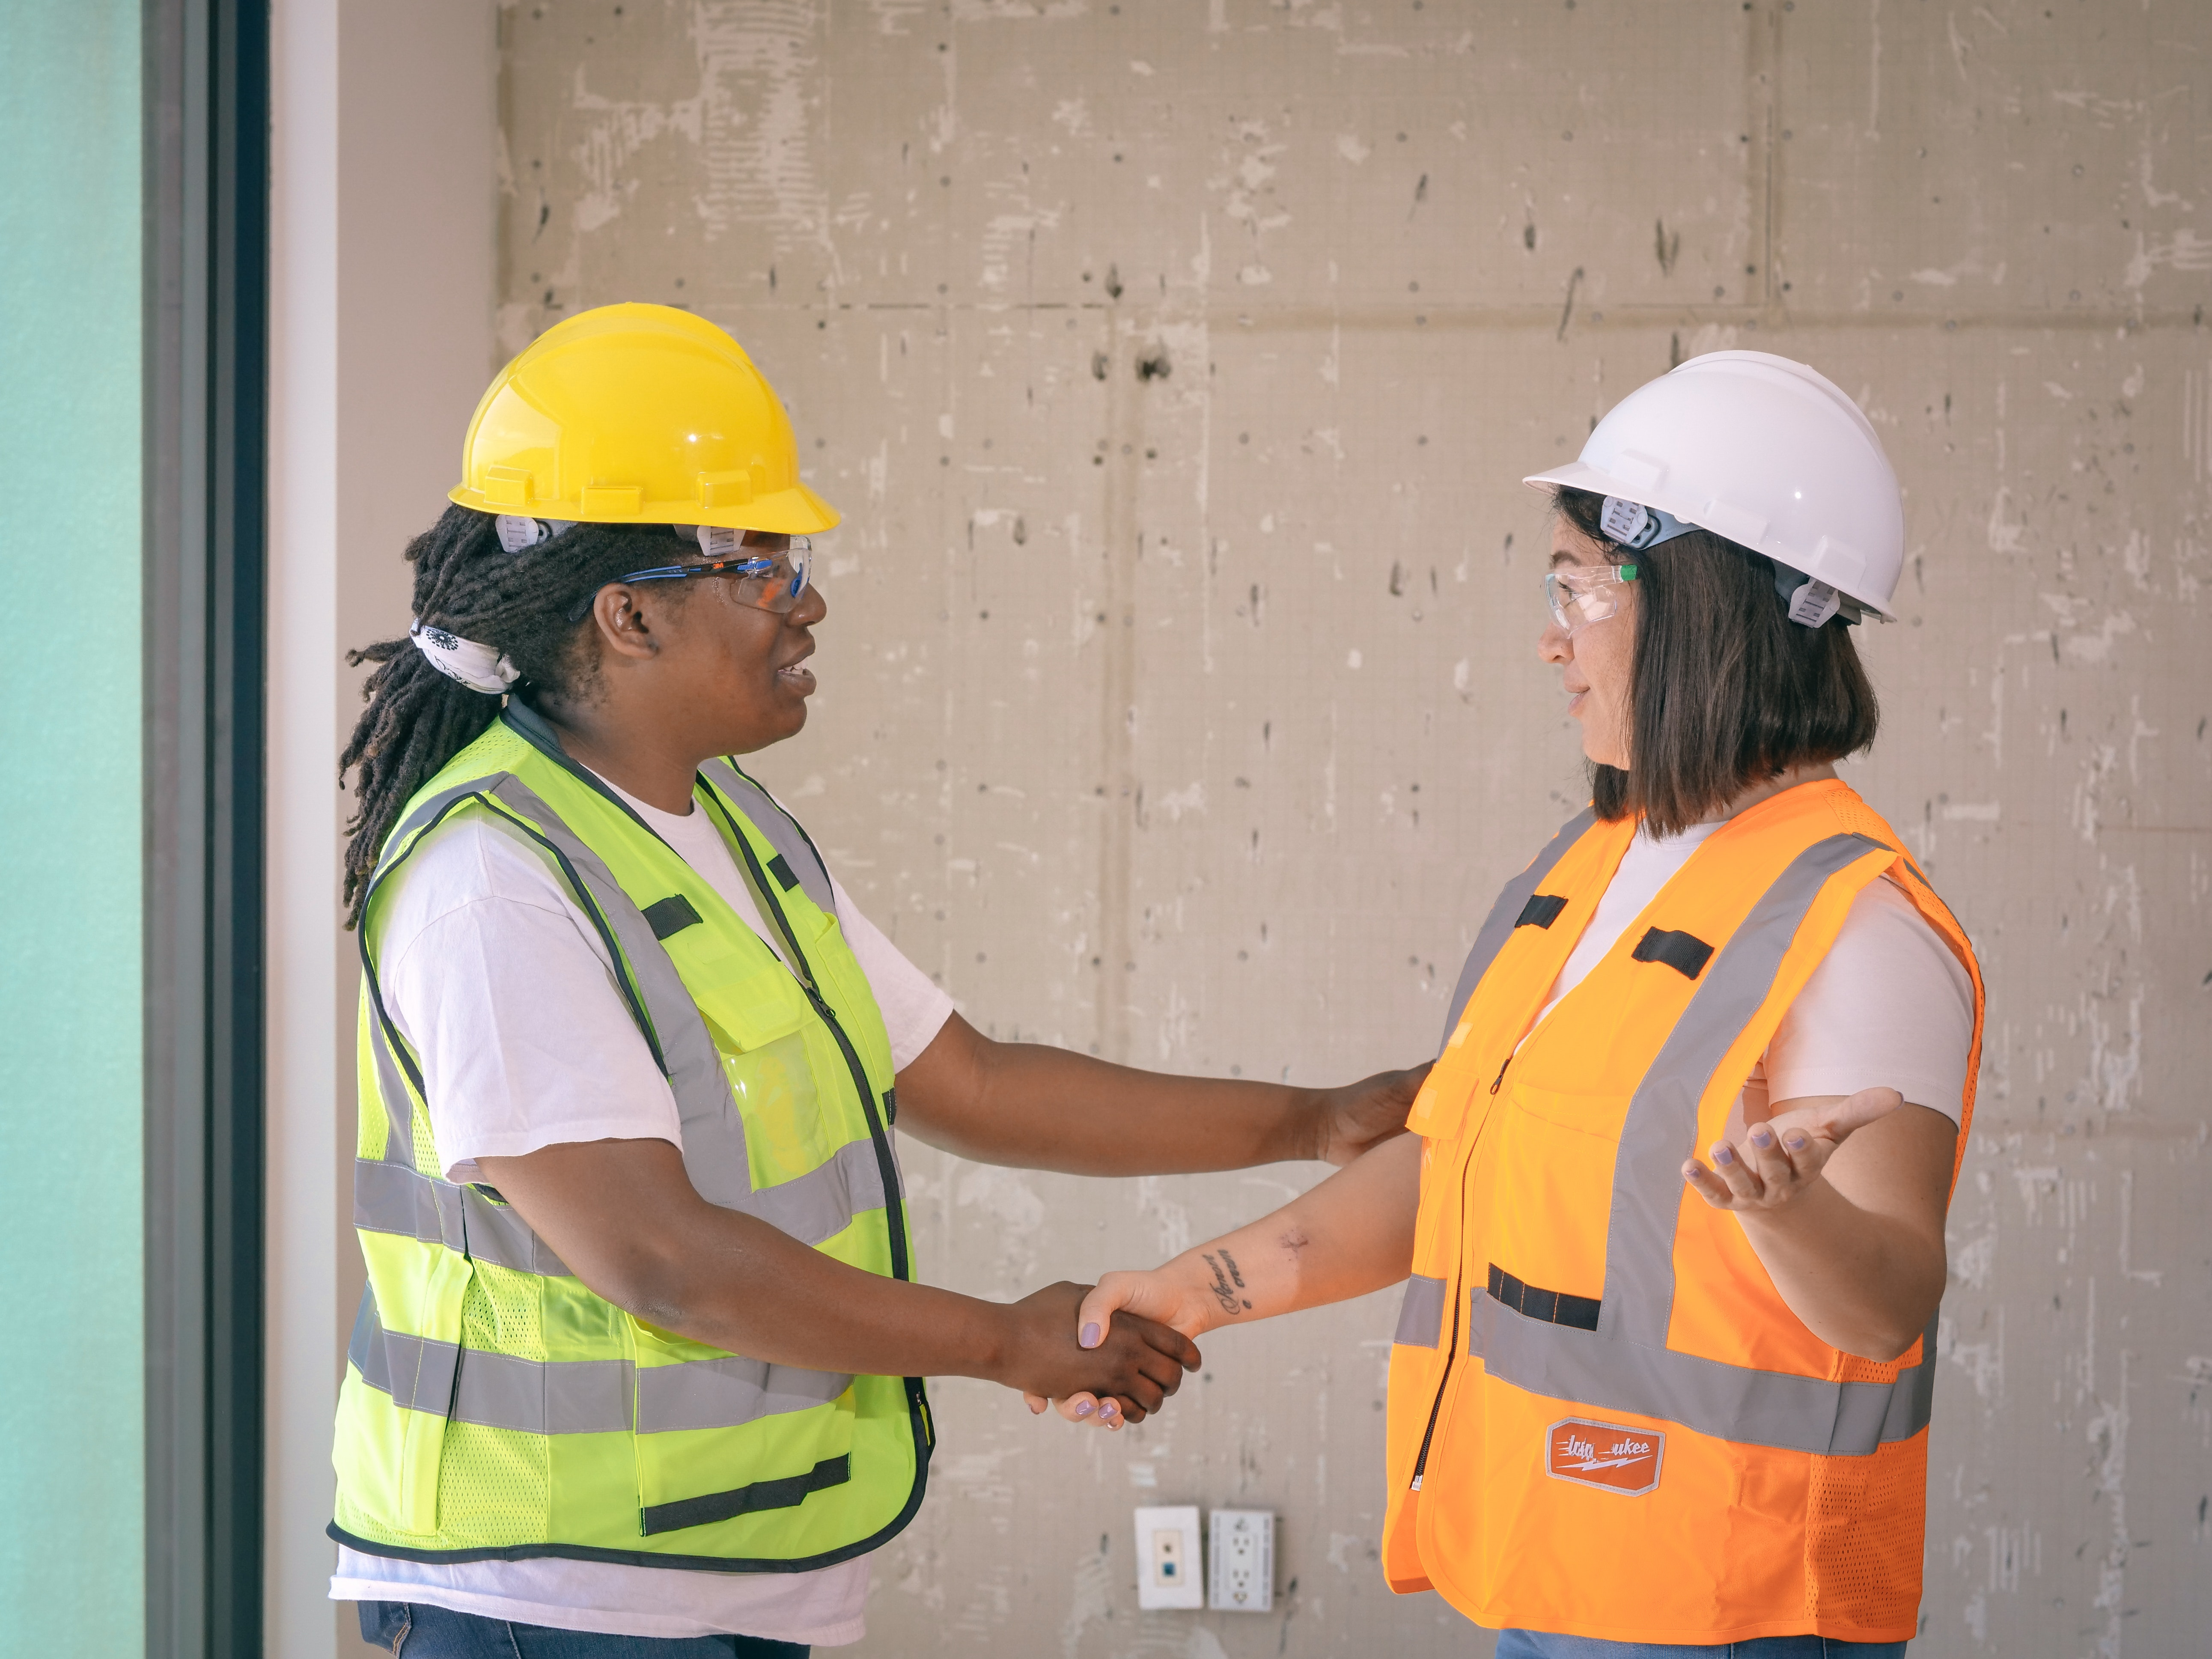Helmet: (435, 281, 894, 812), (1487, 317, 1925, 835)
Reflective vest: (329, 702, 939, 1579), (1378, 772, 1984, 1652)
